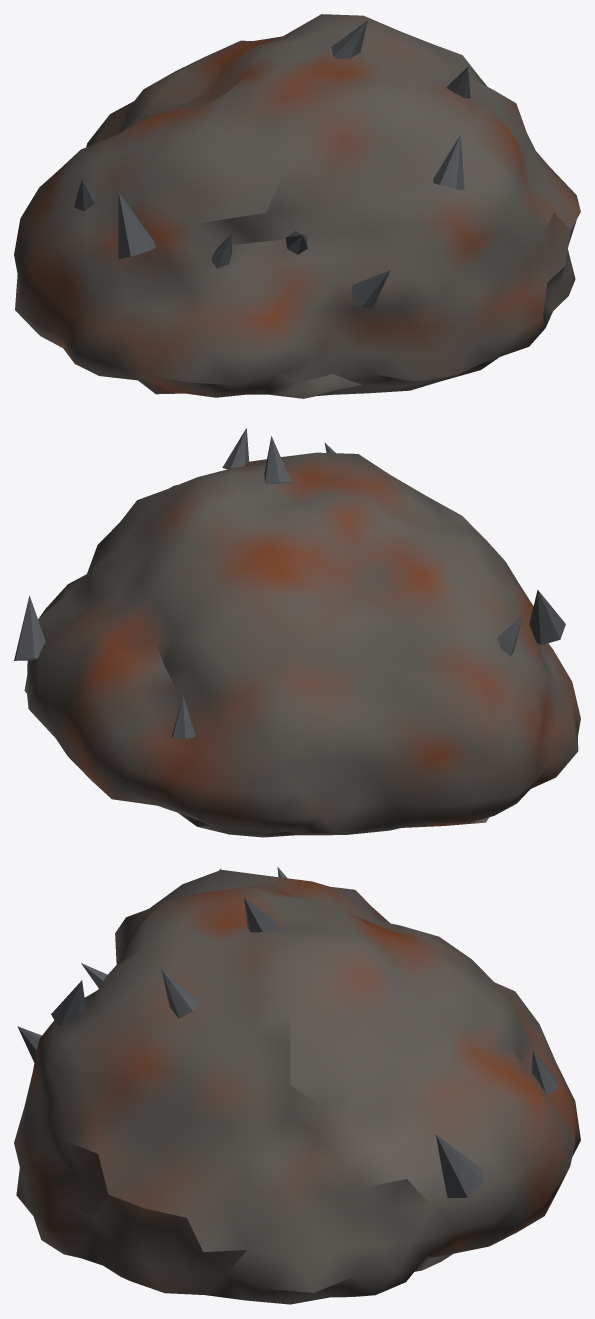
Rendered from metal_node.glb.
3 views of the same model, one above another, from view 1: azimuth 30°, elevation 25°; view 2: azimuth 150°, elevation 25°; view 3: azimuth 270°, elevation 25° (orthographic). The views are drawn at different scales.
Parts seen in each view (by area): view 1: MetalNode; view 2: MetalNode; view 3: MetalNode.
Part boxes in pixels (x1,y1,x2,y2): MetalNode: (14, 14, 580, 398); MetalNode: (14, 428, 580, 837); MetalNode: (14, 867, 580, 1304).
Size of the model in its own units: 2.47 by 1.43 by 2.13.
